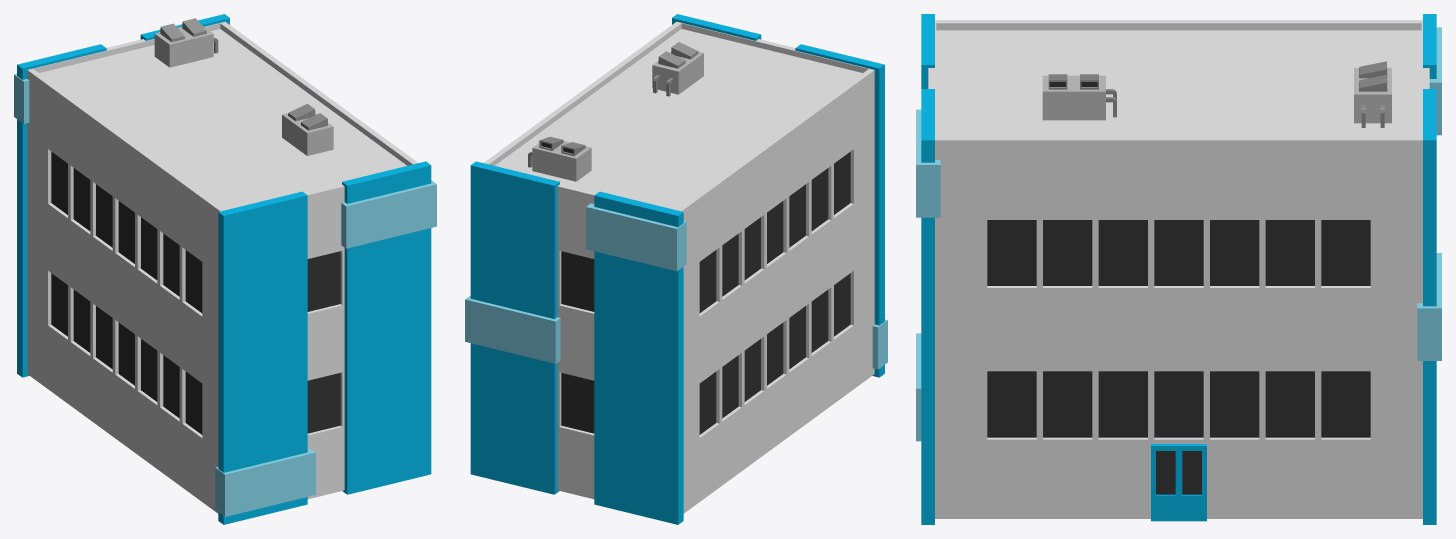
The model's file is flat_07.fbx.
3 views of the same model, side by side, from view 1: azimuth 30°, elevation 25°; view 2: azimuth 150°, elevation 25°; view 3: azimuth 270°, elevation 25° (orthographic). The views are drawn at different scales.
Visible parts, largest first — view 1: flat_07; view 2: flat_07; view 3: flat_07.
Part boxes in pixels (left/top/right/bottom): flat_07: left=14, top=14, right=436, bottom=524; flat_07: left=465, top=14, right=887, bottom=524; flat_07: left=916, top=14, right=1441, bottom=524.
Bounding box in the file's own units: 9.62 × 14.38 × 16.61.
